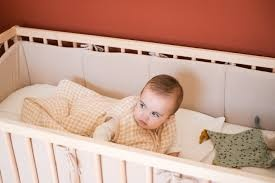baby: (93, 74, 182, 155)
crib: (0, 26, 274, 129)
